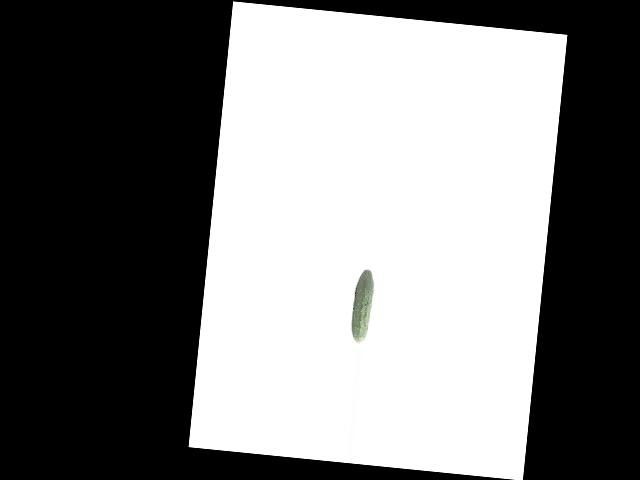cucumber: (349, 268, 375, 343)
